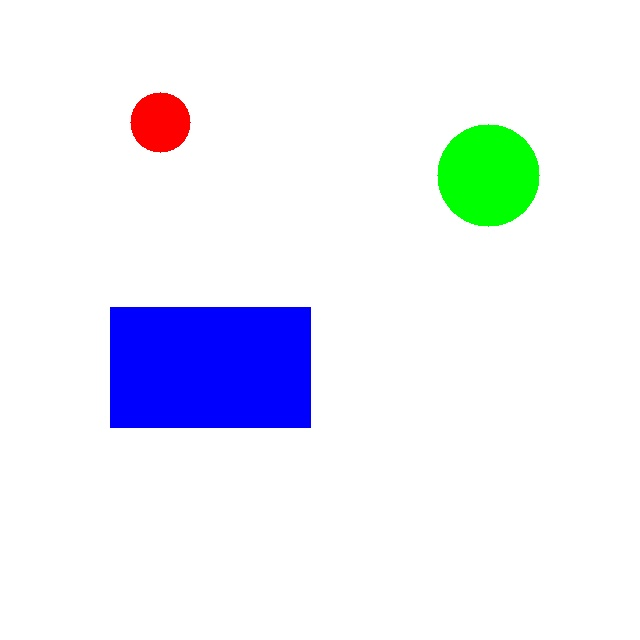cartao: (110, 307, 310, 427)
rosca_externa: (437, 124, 539, 226)
rosca_interna: (130, 92, 190, 152)
